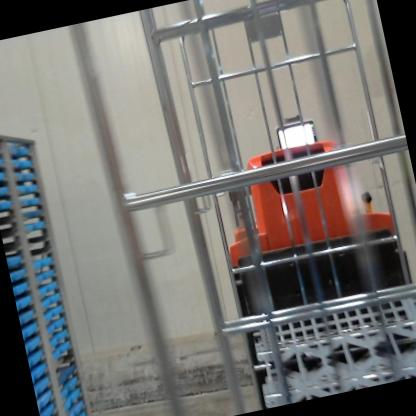pallet_truck: (161, 91, 416, 399)
